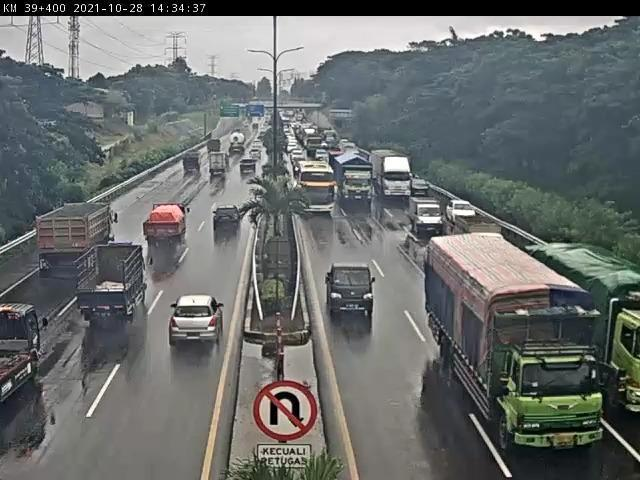bus: (293, 159, 338, 217)
car: (169, 295, 225, 351), (324, 263, 378, 316), (410, 196, 444, 235), (213, 207, 246, 236), (449, 200, 482, 227), (181, 152, 202, 174), (240, 159, 259, 176)
truck: (429, 231, 610, 452), (529, 239, 640, 412), (74, 240, 156, 328), (36, 203, 119, 277), (372, 150, 414, 200), (144, 203, 194, 245), (336, 155, 374, 204), (208, 155, 227, 180)
